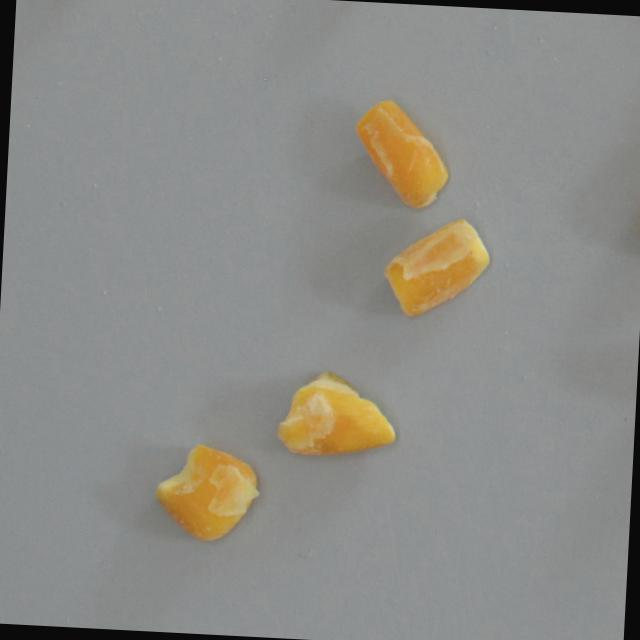pelicula: (379, 213, 492, 323), (276, 369, 401, 466), (149, 441, 262, 547), (350, 96, 455, 210)
